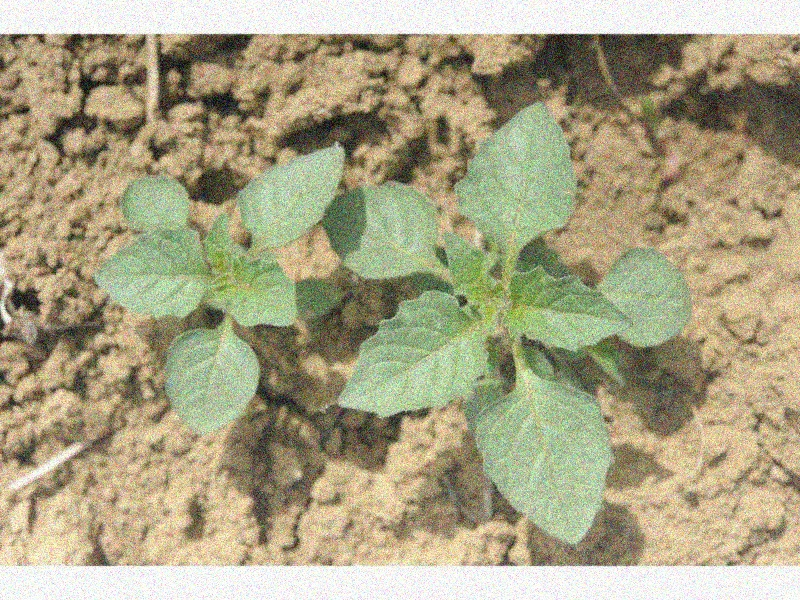nightshade: (323, 100, 692, 544), (90, 143, 343, 435)
